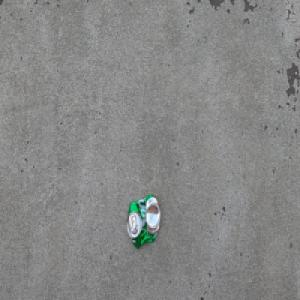SodaCan: (126, 193, 161, 249)
